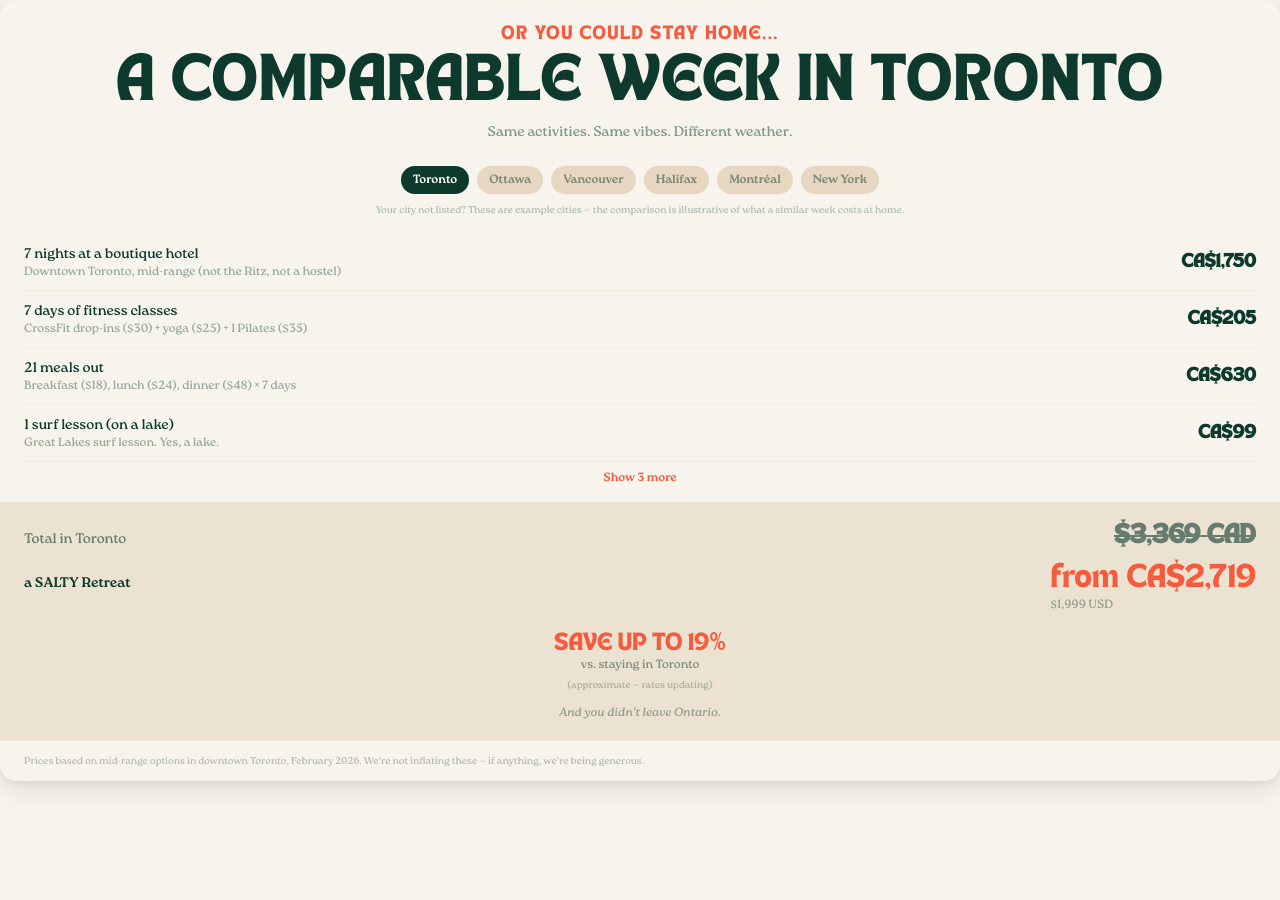
CostOfStayingHome › switches city when selector button is clicked
Click the button "Vancouver" at (594, 180), box top-left (551, 166), bottom-right (636, 194)
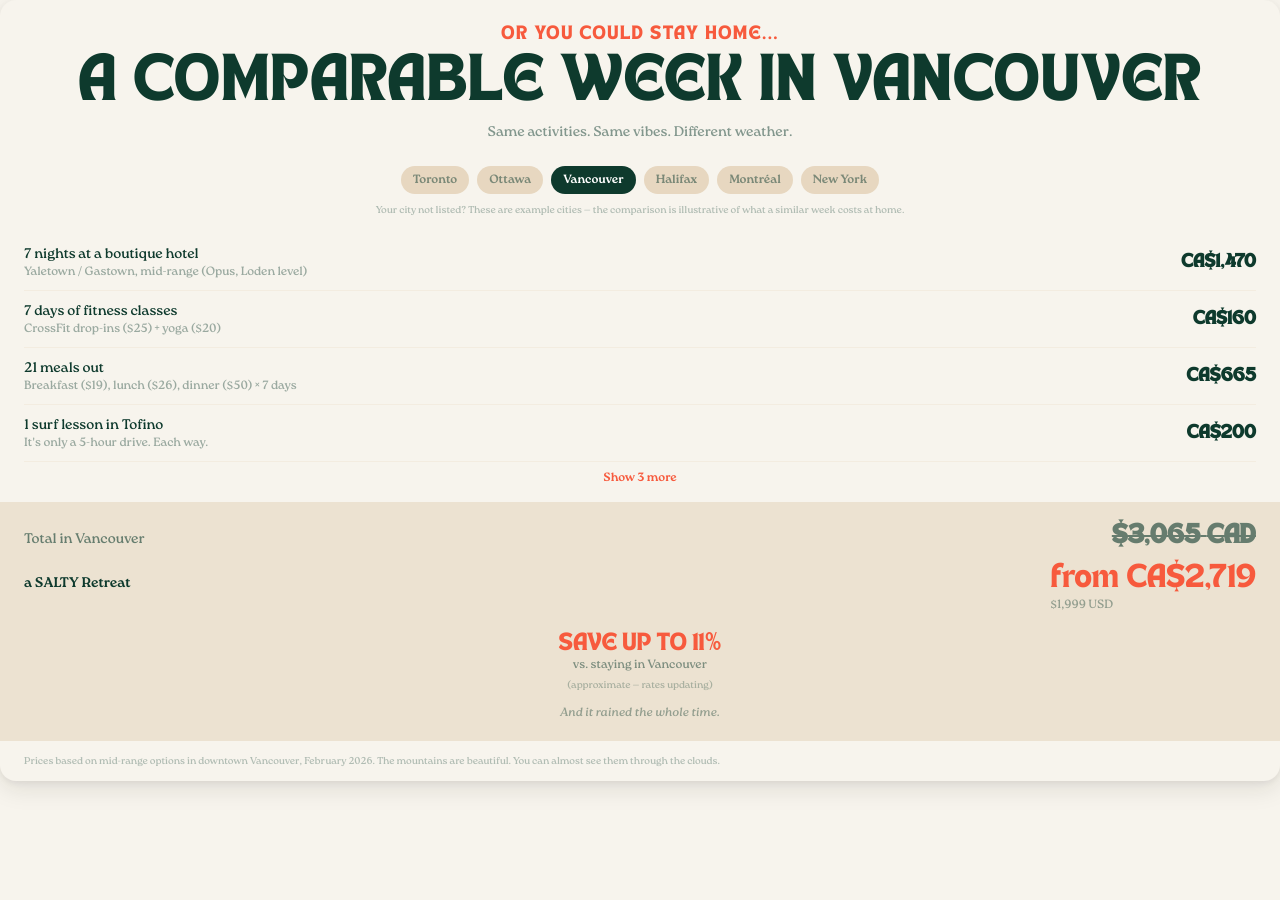
Result: the heading "A comparable week in Vancouver" is shown at top-left (24, 52), bottom-right (1256, 114)
